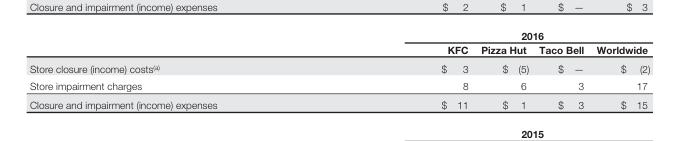table: (28, 28, 649, 110)
table column: (28, 28, 328, 110), (328, 28, 473, 110), (473, 28, 533, 110), (589, 28, 649, 110), (533, 28, 589, 110)
table column header: (28, 28, 649, 58)
table row: (28, 76, 649, 95), (28, 58, 649, 76), (28, 41, 649, 58), (28, 95, 649, 110), (28, 28, 649, 41)
table spanning cell: (328, 28, 649, 41)
